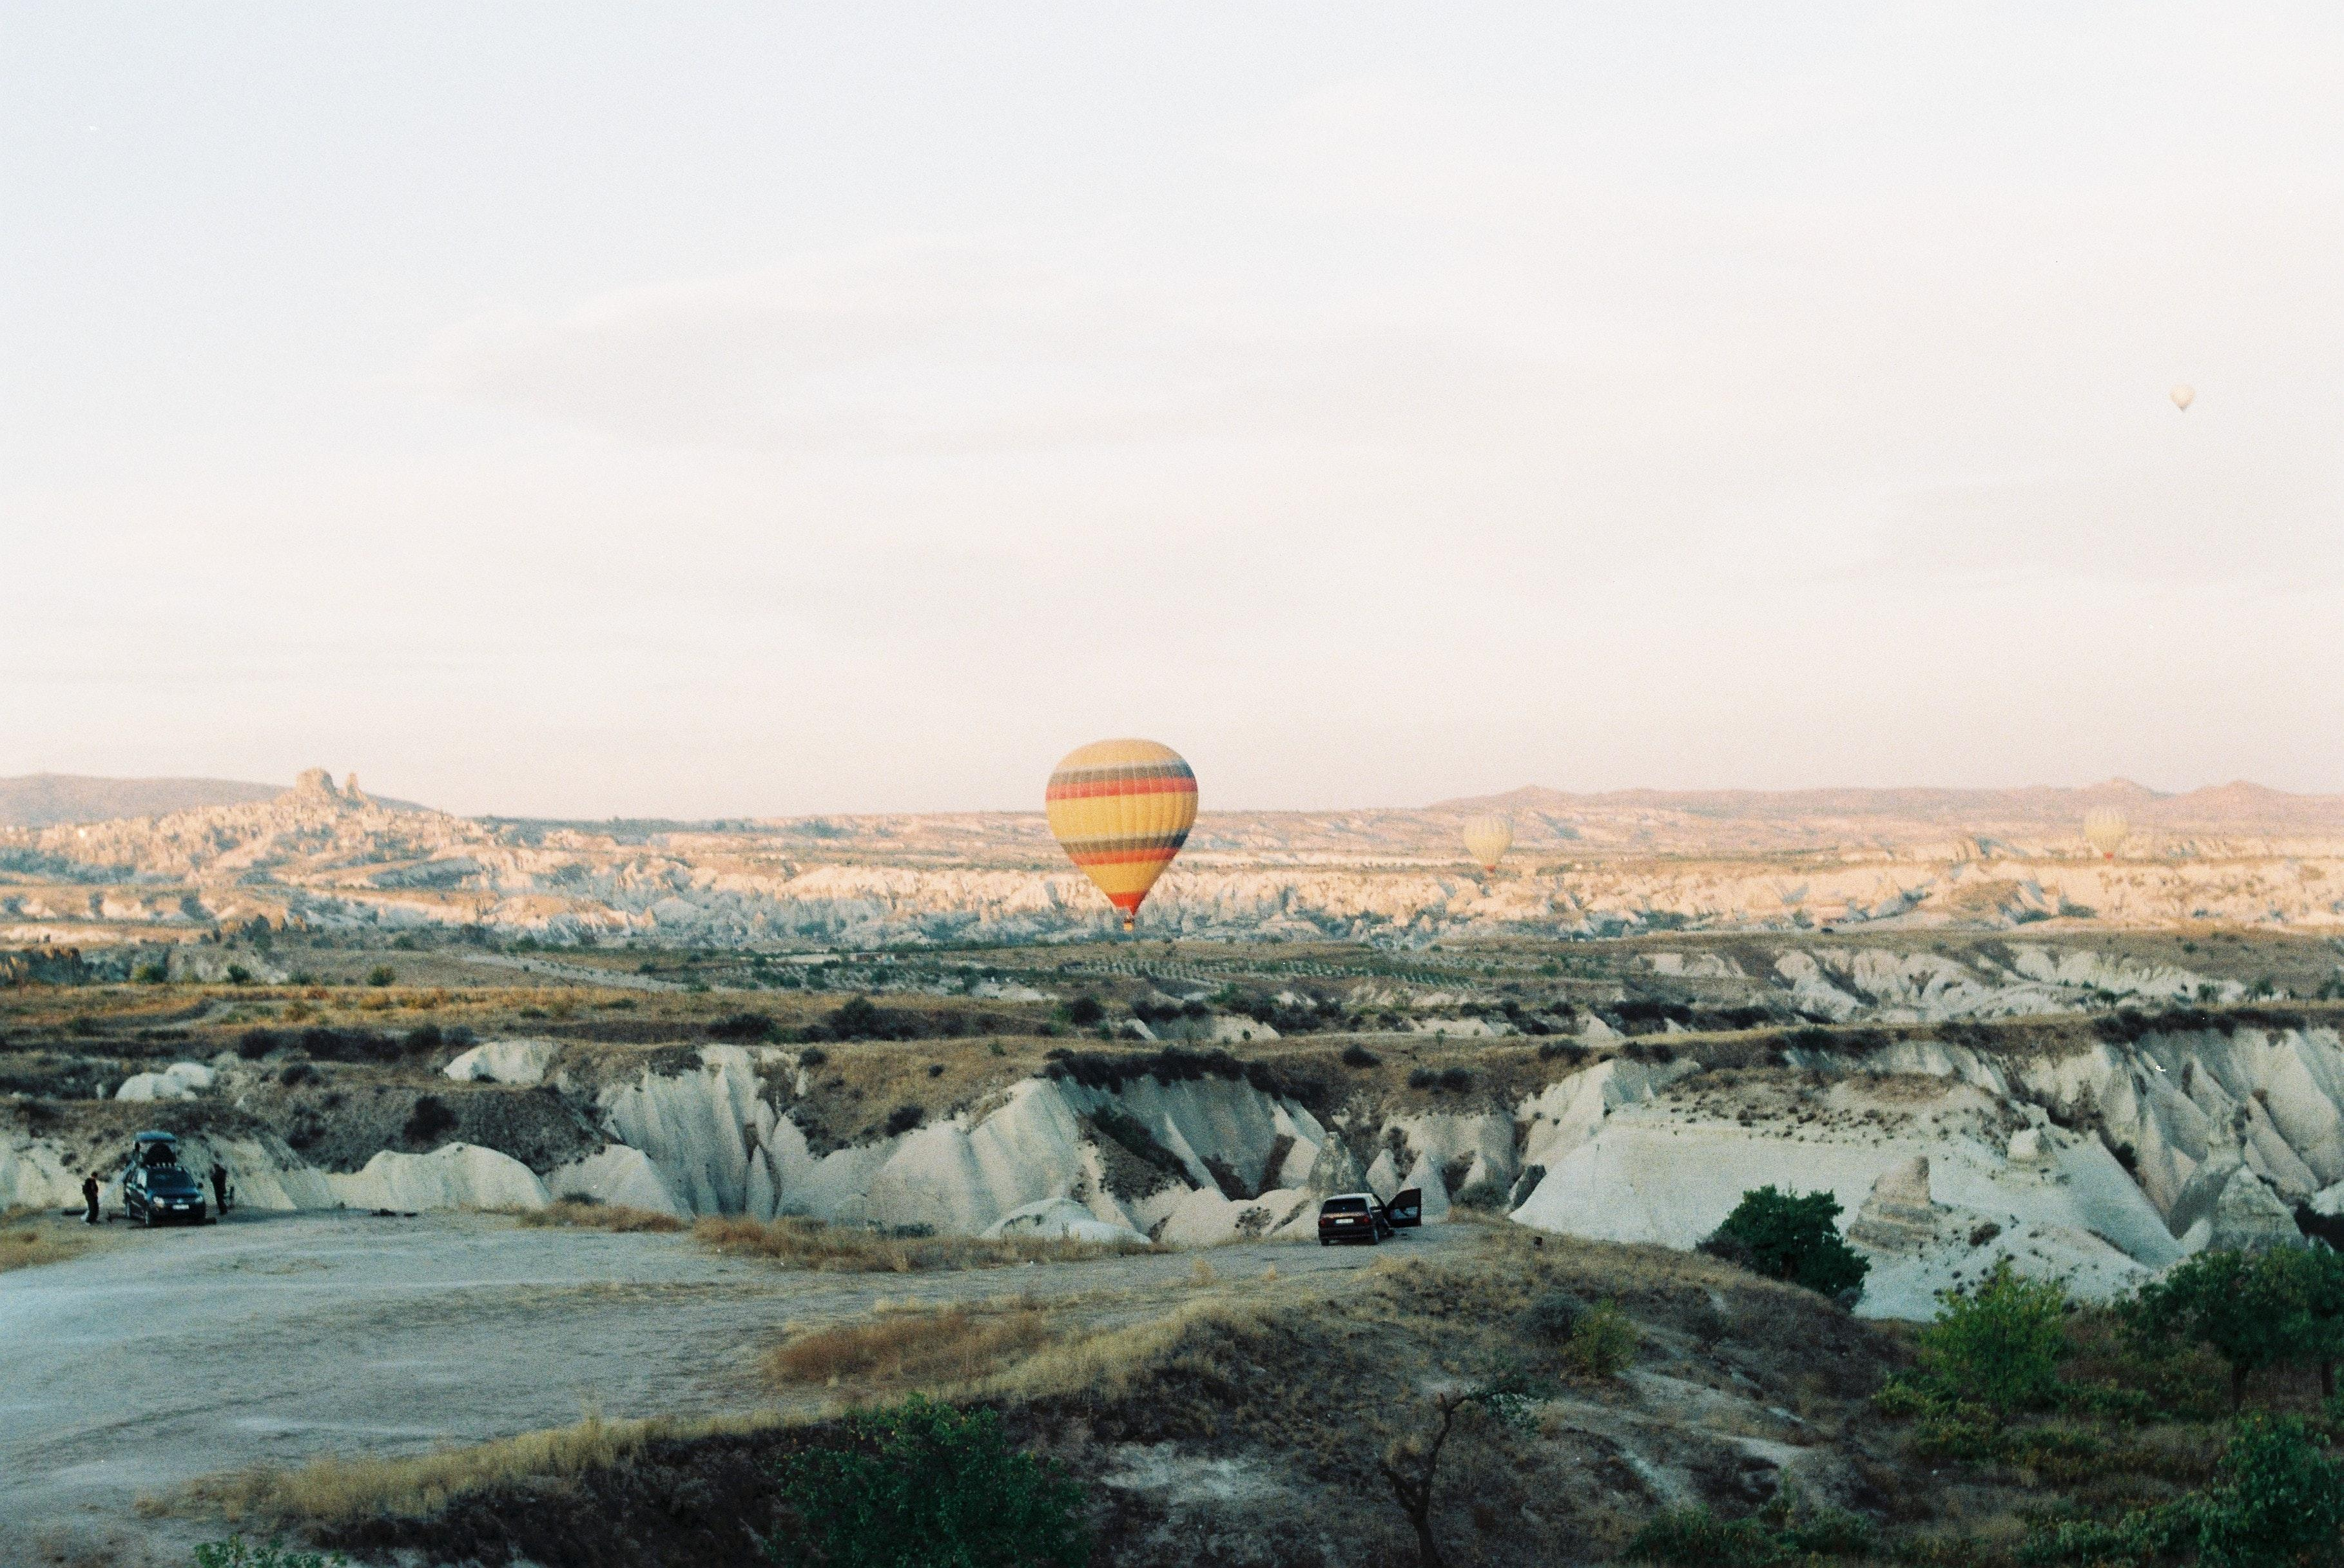hot air ballon: (1044, 737, 1196, 931)
